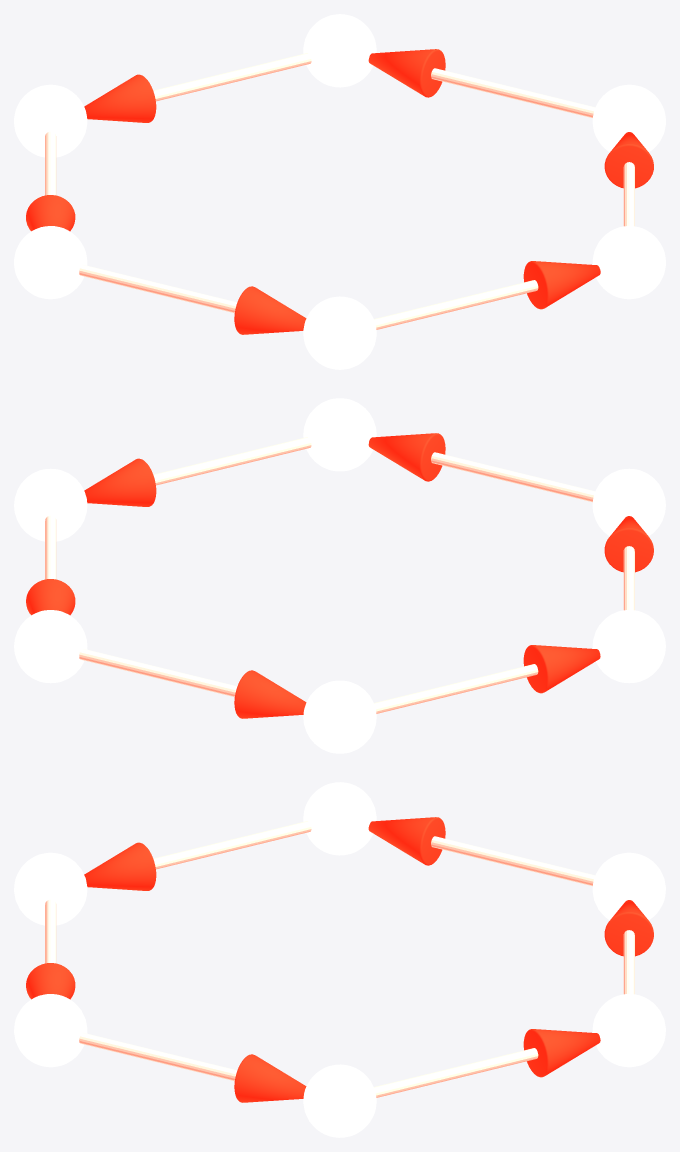
The picture shows the model from 3 angles, top to bottom: view 1: azimuth 30°, elevation 25°; view 2: azimuth 150°, elevation 25°; view 3: azimuth 270°, elevation 25°; orthographic projection.
Parts seen in each view (by area): view 1: Sphere.0004, Sphere.0005, Sphere.0003, Sphere.0001, Sphere.0002, Sphere.0000, Alpha.0003, Alpha.0001, Alpha.0000, Alpha.0004, Gamma.0004, Gamma.0000 (+6 smaller); view 2: Sphere.0002, Sphere.0001, Sphere.0003, Sphere.0005, Sphere.0000, Sphere.0004, Alpha.0001, Alpha.0005, Alpha.0004, Alpha.0002, Gamma.0004, Gamma.0002 (+6 smaller); view 3: Sphere.0000, Sphere.0001, Sphere.0005, Sphere.0003, Sphere.0004, Sphere.0002, Alpha.0003, Alpha.0005, Alpha.0002, Alpha.0000, Gamma.0000, Gamma.0002 (+6 smaller).
Part boxes in pixels (bbox=[...]): Sphere.0004: bbox=[303, 296, 376, 369]; Sphere.0005: bbox=[592, 226, 665, 299]; Sphere.0003: bbox=[14, 226, 87, 299]; Sphere.0001: bbox=[303, 14, 376, 87]; Sphere.0002: bbox=[14, 84, 87, 157]; Sphere.0000: bbox=[592, 84, 665, 151]; Alpha.0003: bbox=[234, 286, 306, 334]; Alpha.0001: bbox=[84, 74, 156, 122]; Alpha.0000: bbox=[368, 49, 445, 97]; Alpha.0004: bbox=[523, 261, 600, 309]; Gamma.0004: bbox=[374, 280, 538, 329]; Gamma.0000: bbox=[431, 68, 595, 117]; Sphere.0002: bbox=[303, 680, 376, 753]; Sphere.0001: bbox=[14, 610, 87, 683]; Sphere.0003: bbox=[592, 610, 665, 683]; Sphere.0005: bbox=[303, 398, 376, 471]; Sphere.0000: bbox=[14, 468, 87, 541]; Sphere.0004: bbox=[592, 468, 665, 536]; Alpha.0001: bbox=[234, 670, 306, 718]; Alpha.0005: bbox=[84, 458, 156, 506]; Alpha.0004: bbox=[368, 433, 445, 481]; Alpha.0002: bbox=[523, 645, 600, 693]; Gamma.0004: bbox=[431, 452, 595, 502]; Gamma.0002: bbox=[374, 664, 538, 713]; Sphere.0000: bbox=[303, 1064, 376, 1137]; Sphere.0001: bbox=[592, 994, 665, 1067]; Sphere.0005: bbox=[14, 994, 87, 1067]; Sphere.0003: bbox=[303, 782, 376, 855]; Sphere.0004: bbox=[14, 852, 87, 925]; Sphere.0002: bbox=[592, 852, 665, 920]; Alpha.0003: bbox=[84, 842, 156, 890]; Alpha.0005: bbox=[234, 1054, 306, 1102]; Alpha.0002: bbox=[368, 817, 445, 865]; Alpha.0000: bbox=[523, 1029, 600, 1077]; Gamma.0000: bbox=[374, 1048, 538, 1097]; Gamma.0002: bbox=[431, 836, 595, 886].
Bounding box in the file's own units: 1.31 × 0.1296 × 1.15.
